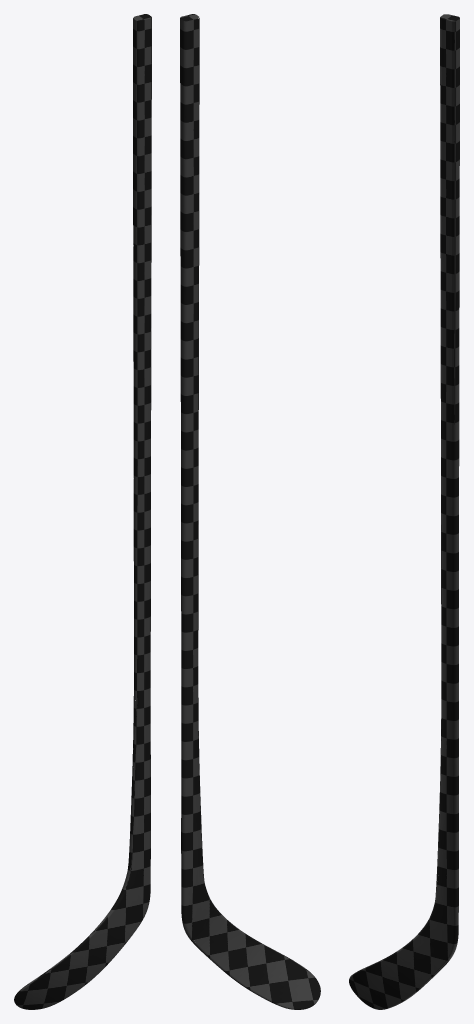
The model's file is P28-SBO-JR.glb.
3 views of the same model, side by side, from view 1: azimuth 30°, elevation 25°; view 2: azimuth 210°, elevation 25°; view 3: azimuth 330°, elevation 25° (orthographic). The views are drawn at different scales.
Parts seen in each view (by area): view 1: geometry_0; view 2: geometry_0; view 3: geometry_0.
Boxes of the visible parts, <box> form: geometry_0: <box>14,14,151,1009</box>; geometry_0: <box>180,14,320,1009</box>; geometry_0: <box>349,14,459,1009</box>.
Bounding box in the file's own units: 210 × 1650 × 66.46.
1 material, 1 textured.
